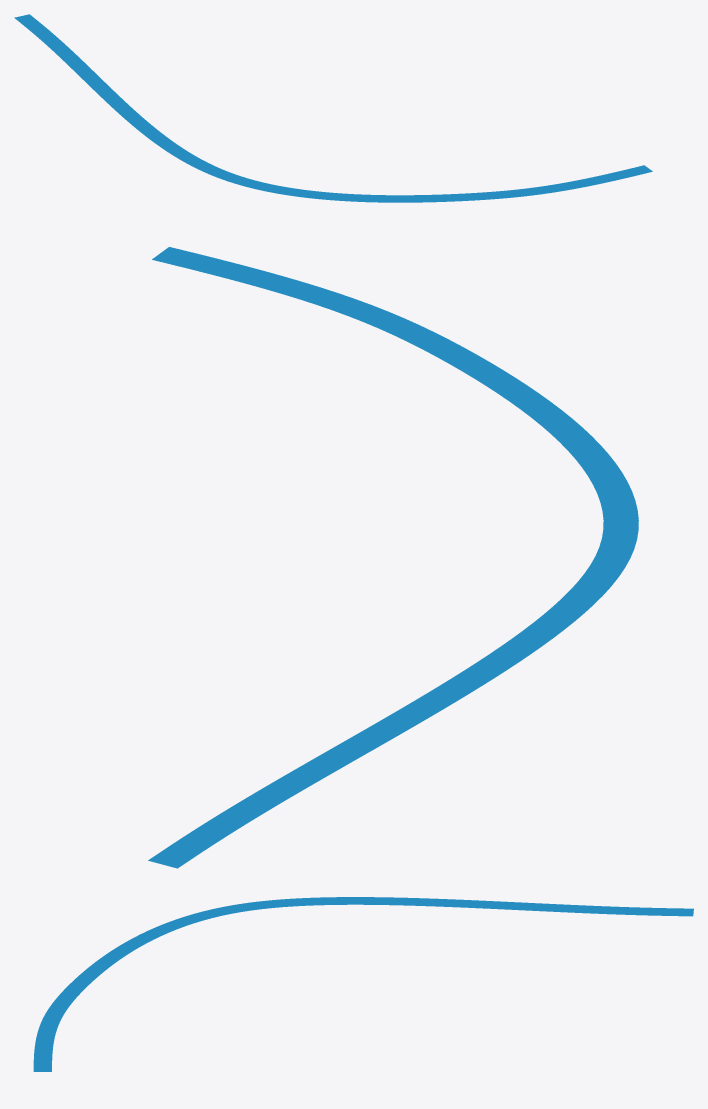
The model's file is guide.glb.
3 renders of one model, top to bottom at view 1: azimuth 30°, elevation 25°; view 2: azimuth 150°, elevation 25°; view 3: azimuth 270°, elevation 25°, orthographic. The views are drawn at different scales.
Visible parts, largest first — view 1: static; view 2: static; view 3: static.
Part boxes in pixels (x1,y1,x2,y2): static: (14, 14, 652, 202); static: (148, 247, 638, 868); static: (33, 897, 693, 1071).
Size of the model in its own units: 8.16 by 0 by 11.85.
